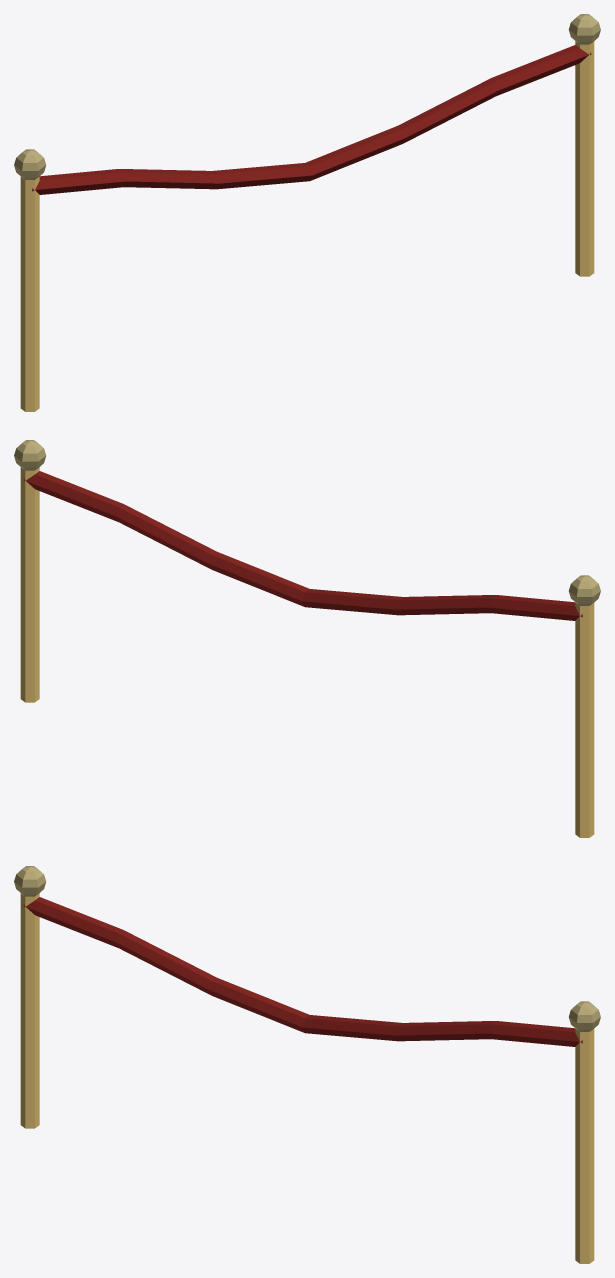
Rendered from Rope Barrier.fbx.
3 renders of one model, top to bottom at view 1: azimuth 30°, elevation 25°; view 2: azimuth 150°, elevation 25°; view 3: azimuth 330°, elevation 25°, orthographic.
Visible parts, largest first — view 1: Rope, Pol;e.001, Pol;e; view 2: Rope, Pol;e.001, Pol;e; view 3: Rope, Pol;e, Pol;e.001.
Boxes of the visible parts, bbox=[...] form: Rope: bbox=[32, 45, 591, 194]; Pol;e.001: bbox=[14, 149, 46, 411]; Pol;e: bbox=[568, 14, 600, 276]; Rope: bbox=[23, 471, 582, 620]; Pol;e.001: bbox=[568, 575, 600, 837]; Pol;e: bbox=[14, 440, 46, 702]; Rope: bbox=[23, 897, 582, 1046]; Pol;e: bbox=[568, 1001, 600, 1263]; Pol;e.001: bbox=[14, 866, 46, 1128].
Bounding box in the file's own units: 2087 × 889 × 101.
